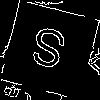S: (25, 25, 70, 79)
